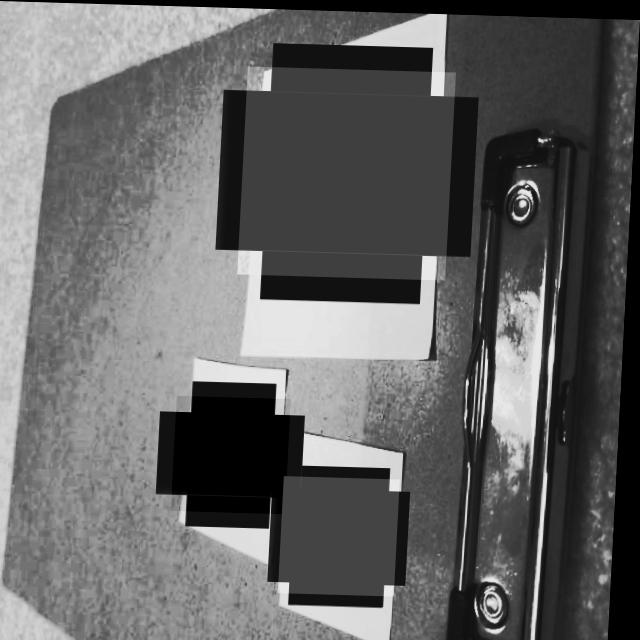qr_code: (240, 64, 457, 277), (284, 473, 405, 593), (176, 394, 295, 511)
